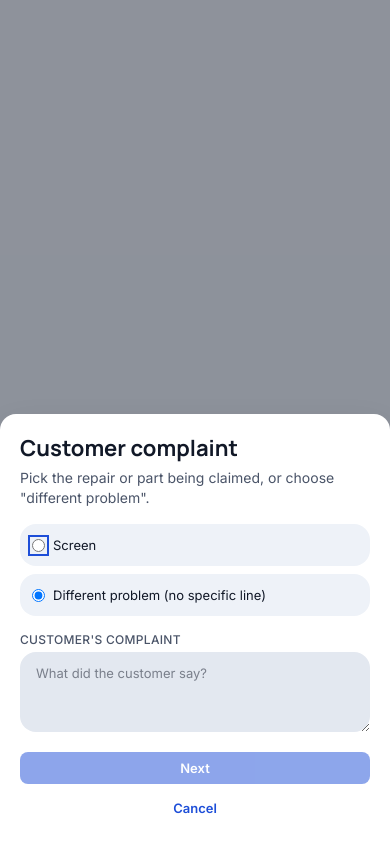
Test case: CreateWizardModal › blocks Next until reason is provided
Check: the button "Next" is disabled, box [20,752,370,784]
In the text box: (195, 692) [20,652,370,732], type "screen broken"
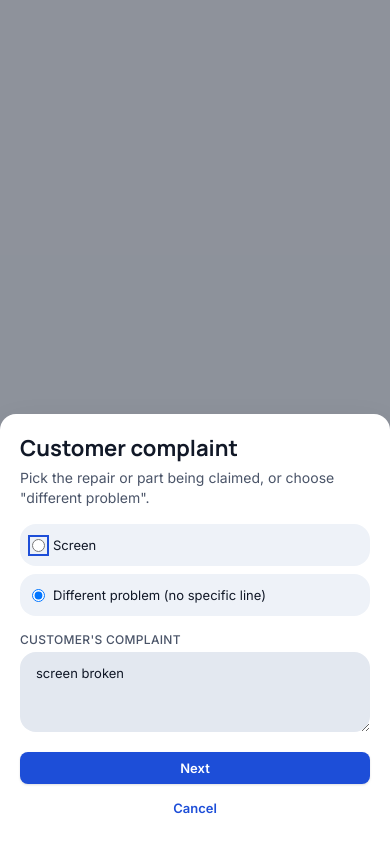
Check: the button "Next" is enabled, box [20,752,370,784]
